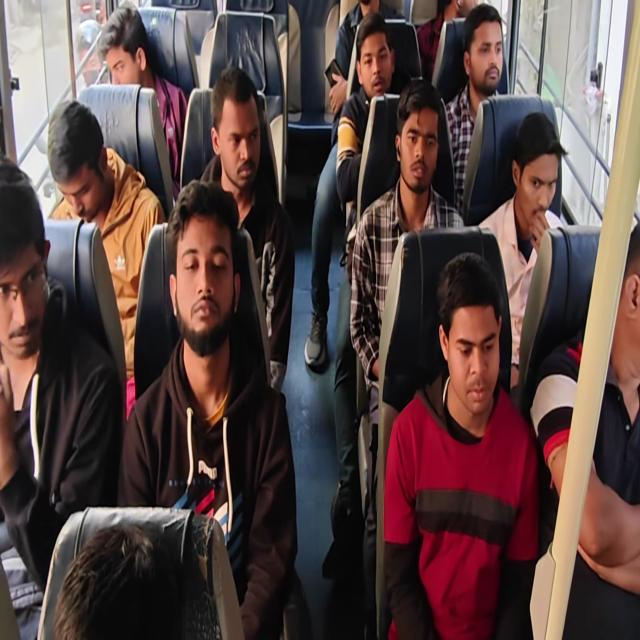person: (45, 511, 232, 636), (165, 182, 252, 342), (436, 248, 505, 424), (0, 153, 51, 360), (46, 99, 121, 222), (208, 51, 267, 187), (514, 106, 563, 244), (391, 72, 442, 198), (95, 0, 157, 98), (612, 220, 640, 396), (456, 5, 505, 88), (356, 9, 392, 91), (444, 0, 489, 23), (354, 0, 384, 18)
